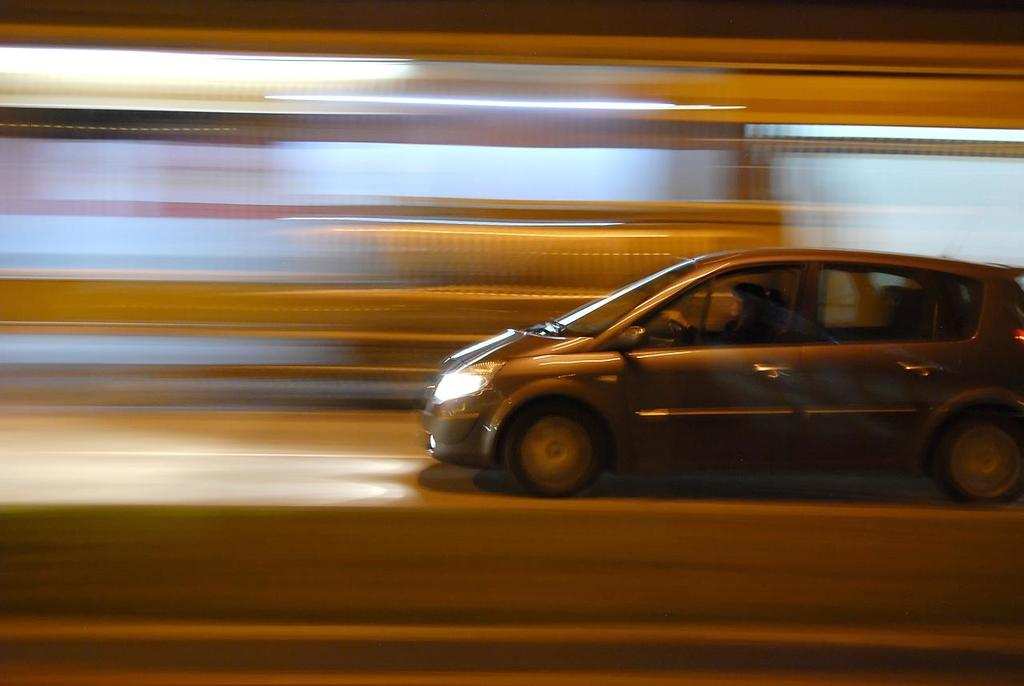Car: (423, 247, 1023, 498)
